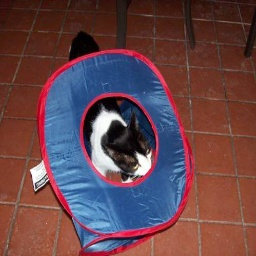cat: (58, 23, 154, 184)
